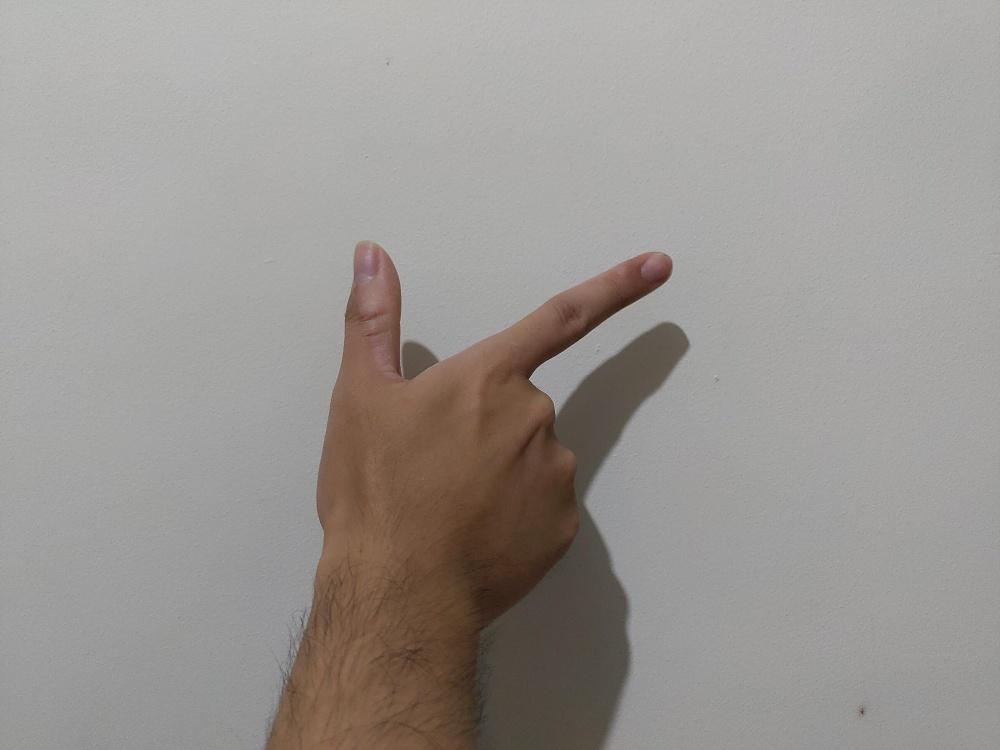g: (314, 236, 674, 630)
